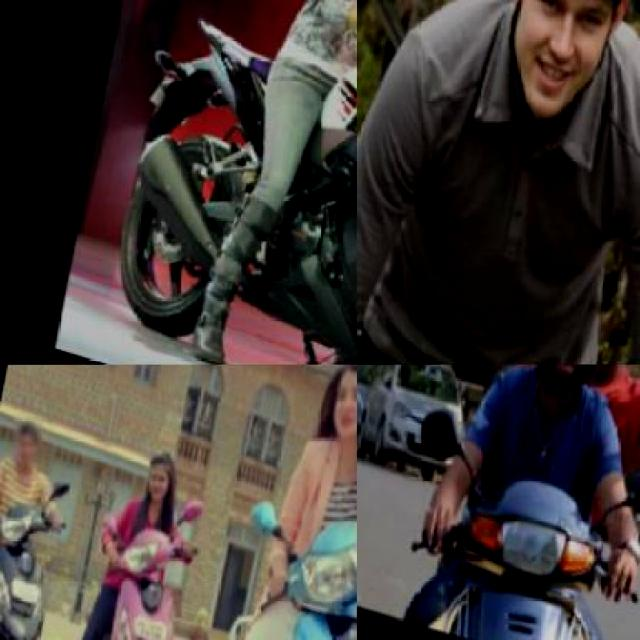With Helmet: (451, 0, 638, 151), (494, 364, 634, 410)
Without Helmet: (127, 440, 188, 514), (310, 364, 356, 448), (1, 409, 50, 471)
